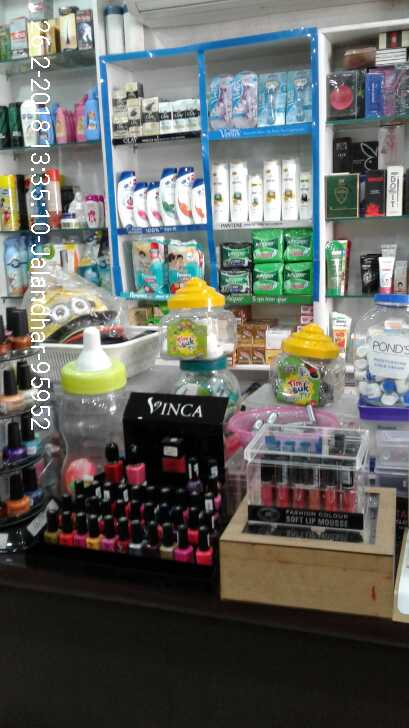venus: (259, 75, 287, 127), (287, 68, 311, 127), (234, 71, 258, 128), (211, 78, 234, 128)
